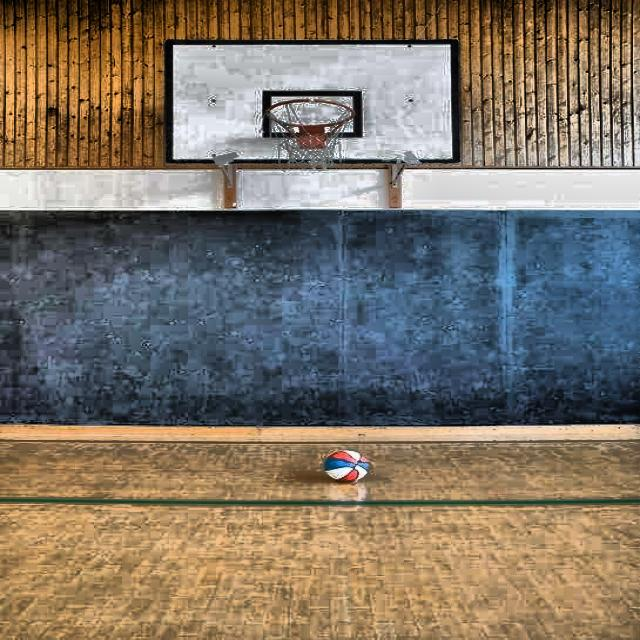board: (322, 449, 370, 482)
rim: (265, 98, 359, 168)
